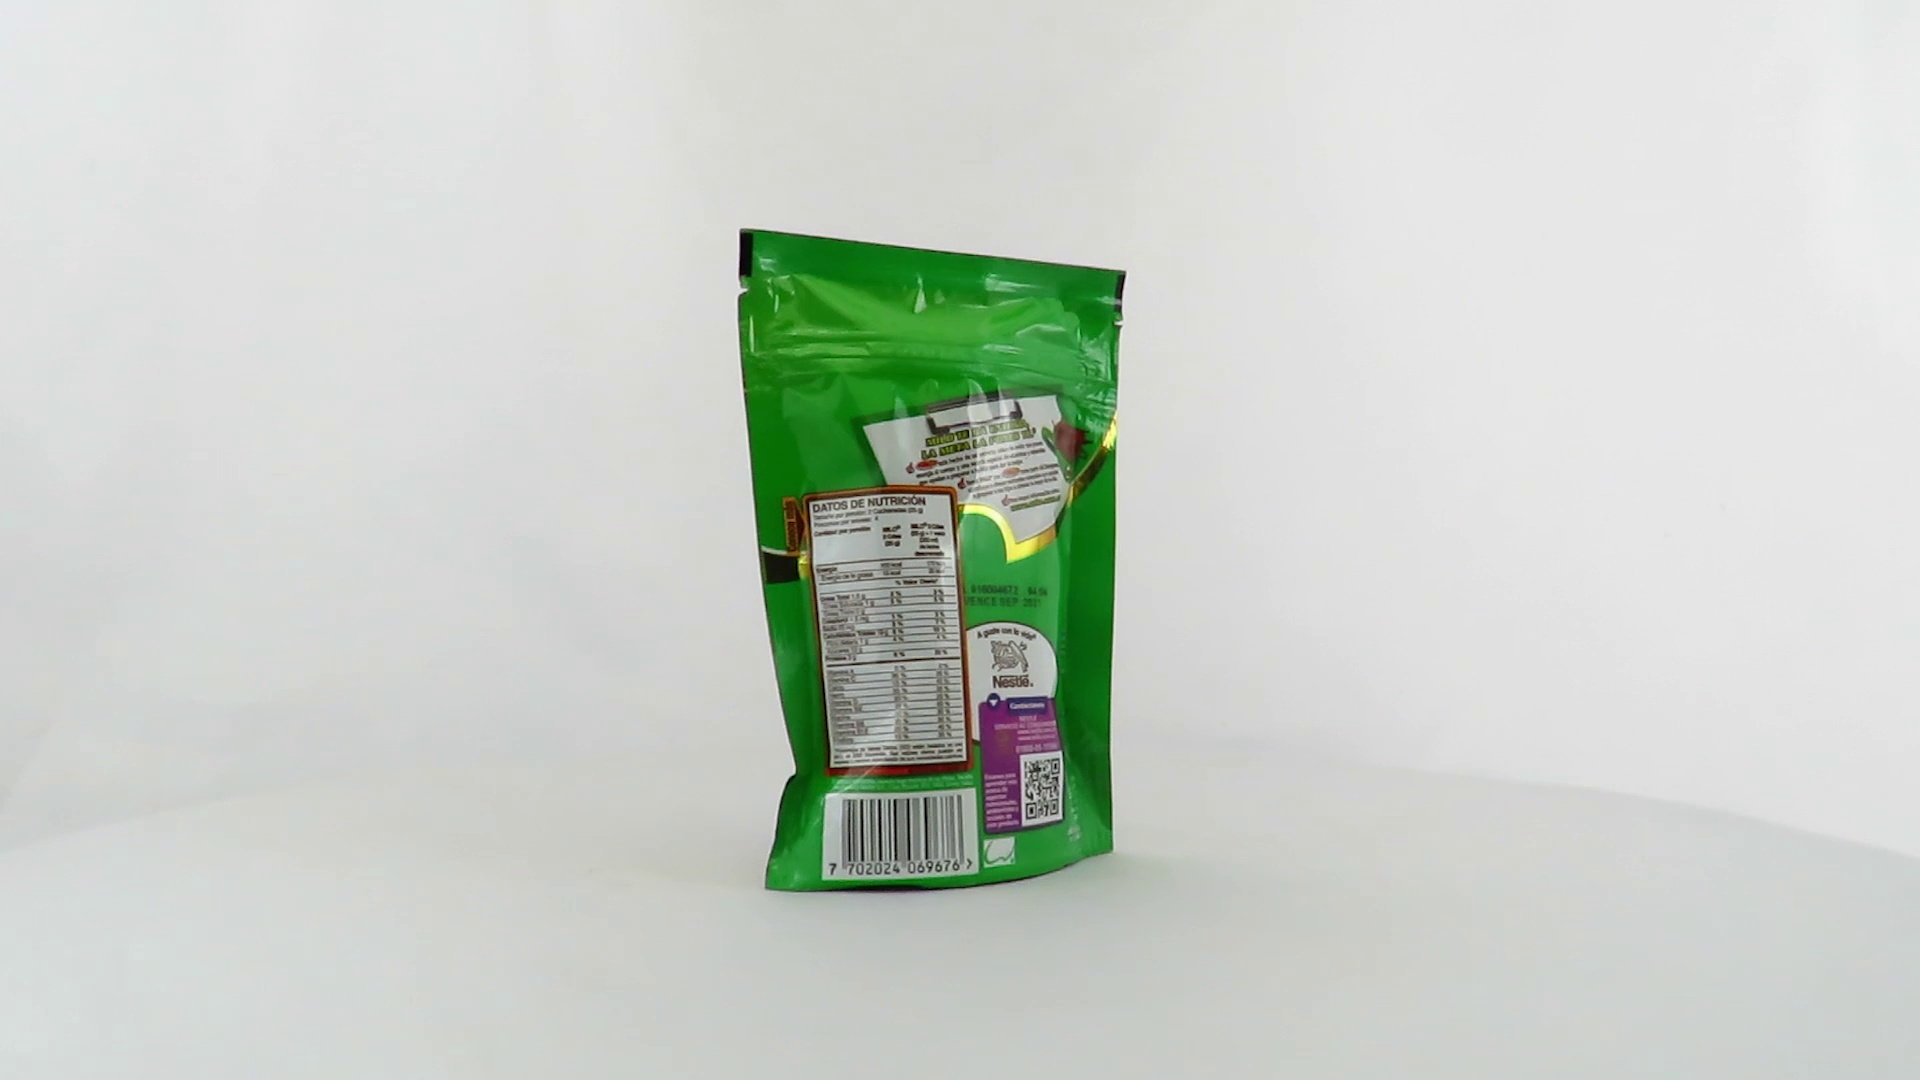COL0170203DYP10000: (732, 223, 1133, 899)
